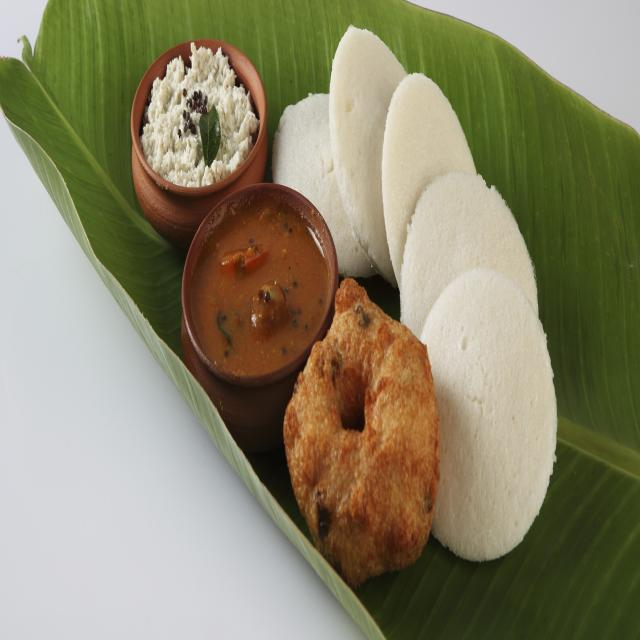IDLI: (419, 270, 557, 560), (398, 171, 538, 337), (329, 25, 407, 286), (382, 73, 476, 284), (272, 93, 375, 276)
SAMOSA: (284, 280, 440, 587)
